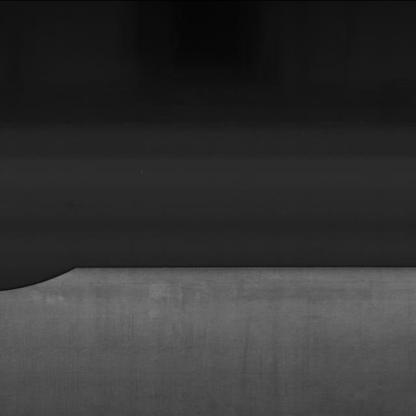crescent_gap: (0, 255, 86, 298)
